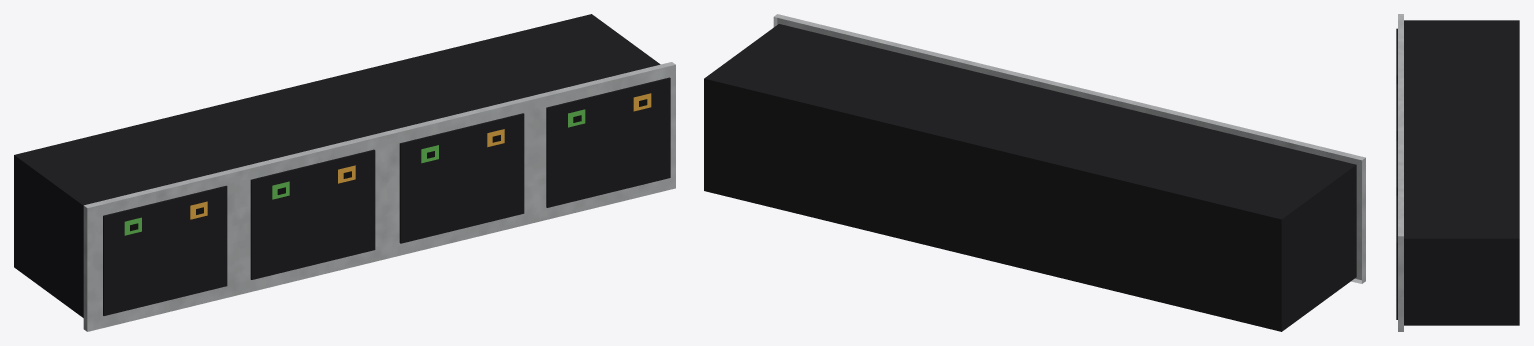
The model's file is 0FM487.far.glb.
3 renders of one model, left to right at view 1: azimuth 30°, elevation 25°; view 2: azimuth 150°, elevation 25°; view 3: azimuth 270°, elevation 25°, orthographic. The views are drawn at different scales.
Visible parts, largest first — view 1: NDC_far; view 2: NDC_far; view 3: NDC_far.
Part boxes in pixels (bbox=[...]): NDC_far: bbox=[14, 14, 675, 331]; NDC_far: bbox=[704, 14, 1365, 331]; NDC_far: bbox=[1396, 14, 1519, 331].
Bounding box in the file's own units: 0.0876 × 0.0176 × 0.0209.
3 materials, 2 textured.
